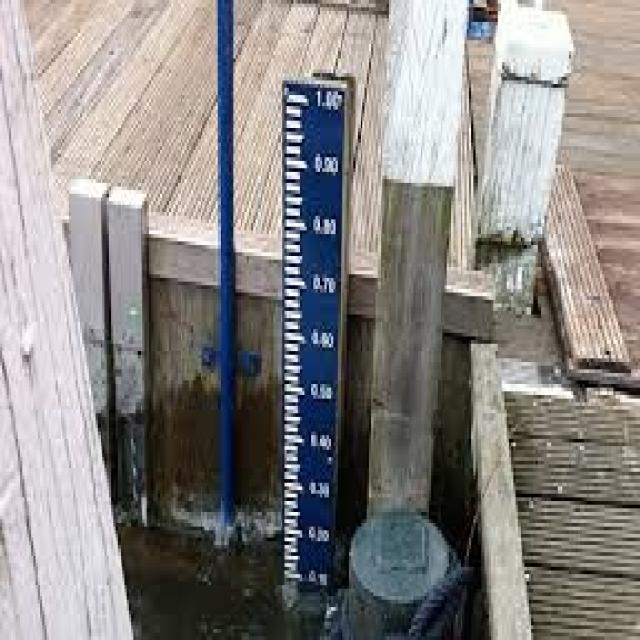staff: (278, 81, 346, 600)
